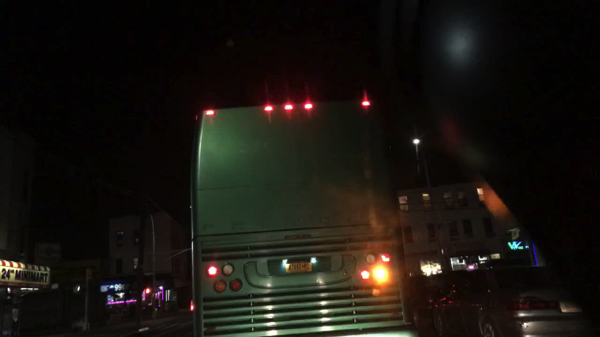bus: (190, 100, 418, 337)
car: (431, 264, 595, 337), (411, 271, 445, 330), (410, 274, 424, 302)
traffic light: (72, 285, 81, 294), (438, 248, 447, 257), (449, 247, 455, 257), (145, 286, 150, 295)
